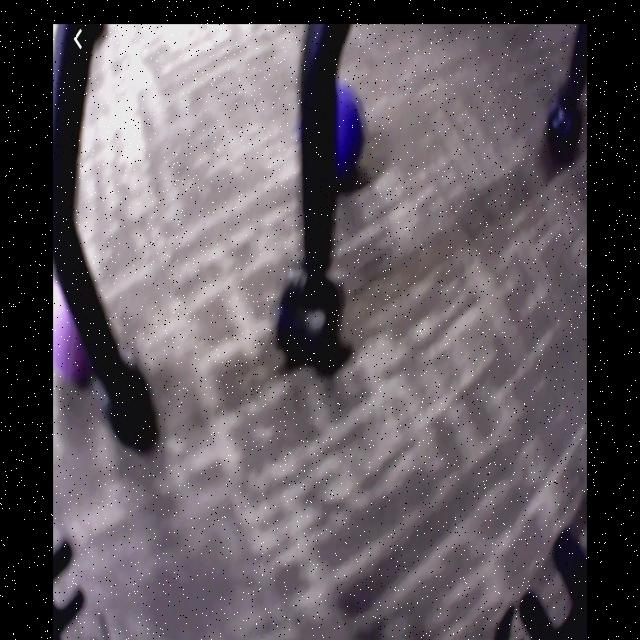ball: (55, 279, 92, 386), (335, 88, 364, 180)
